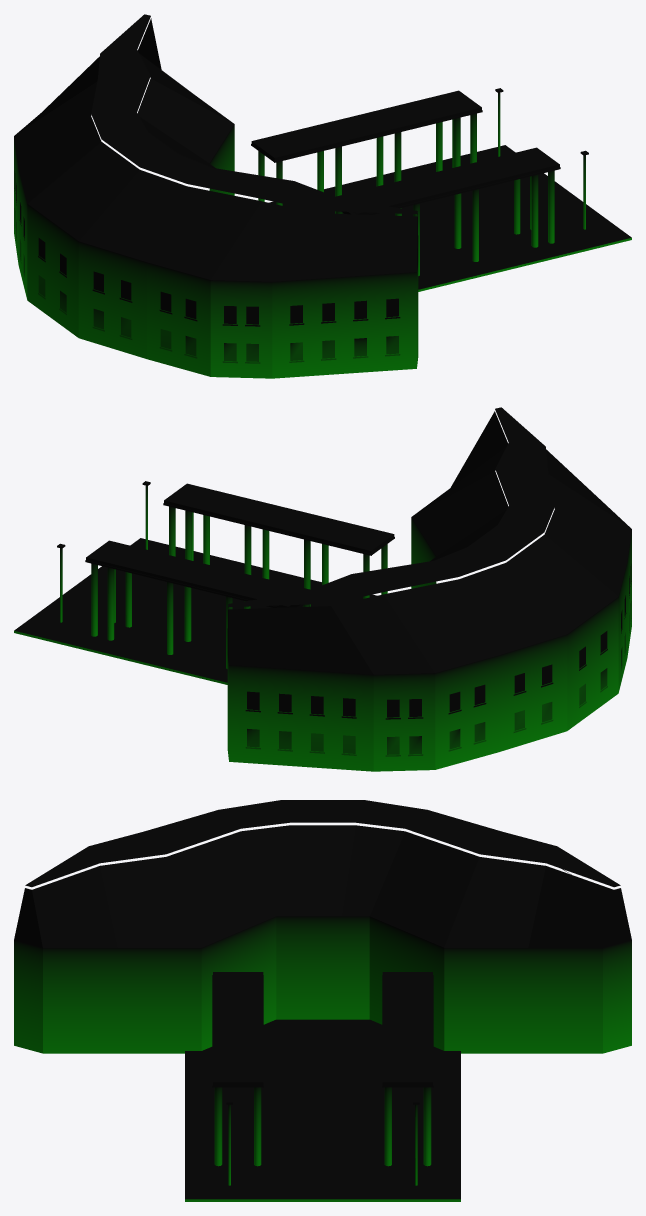
Rendered from s_quetragon.glb.
The picture shows the model from 3 angles, top to bottom: view 1: azimuth 30°, elevation 25°; view 2: azimuth 150°, elevation 25°; view 3: azimuth 270°, elevation 25°; orthographic projection. The views are drawn at different scales.
Parts seen in each view (by area): view 1: lod0; view 2: lod0; view 3: lod0.
Part boxes in pixels (x1,y1,x2,y2): lod0: [14, 14, 631, 378]; lod0: [14, 407, 631, 771]; lod0: [14, 800, 631, 1201].
Size of what is drawn, in the model's own units: 37.26 by 10.32 by 35.4.
